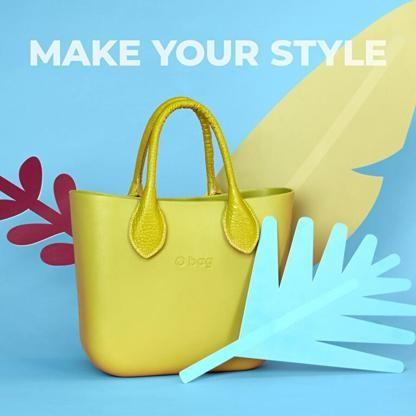not trash: (69, 98, 304, 370)
